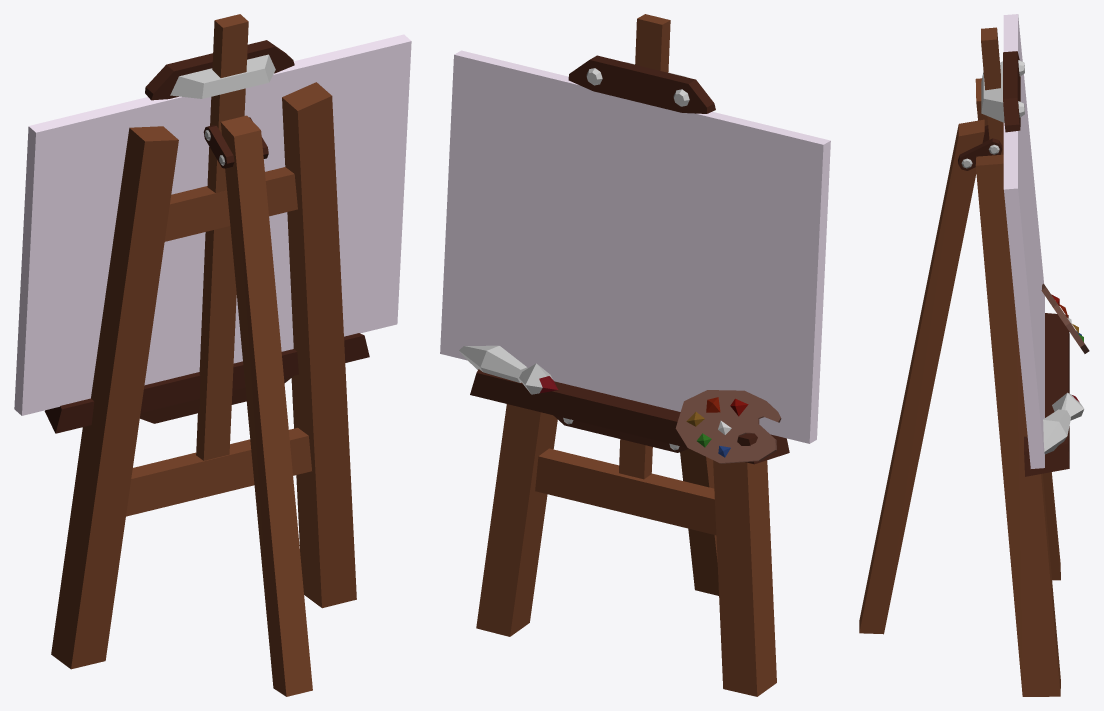
The model's file is defaulteasle.obj.
3 renders of one model, left to right at view 1: azimuth 30°, elevation 25°; view 2: azimuth 150°, elevation 25°; view 3: azimuth 270°, elevation 25°, orthographic. The views are drawn at different scales.
Visible parts, largest first — view 1: Canvas1, Legs1, Support1, Spine1, Beam2, Base2, Beam1, Bracket1, Base3, Hinge1; view 2: Canvas1, Legs1, Beam2, Base2, Board1, Base3, Spine1, Support1, Body1; view 3: Legs1, Support1, Canvas1, Base2, Spine1, Base3, Bracket1, Hinge1, Body1, Board1, Base1.
Part boxes in pixels (x1,y1,x2,y2): Canvas1: [14, 34, 411, 415]; Legs1: [51, 82, 356, 669]; Support1: [220, 115, 312, 696]; Spine1: [196, 14, 248, 460]; Beam2: [126, 427, 311, 516]; Base2: [44, 333, 369, 433]; Beam1: [164, 167, 297, 241]; Bracket1: [170, 54, 275, 98]; Base3: [145, 40, 294, 100]; Hinge1: [203, 117, 268, 168]; Canvas1: [440, 50, 830, 443]; Legs1: [476, 404, 776, 696]; Beam2: [535, 448, 716, 535]; Base2: [470, 369, 789, 464]; Board1: [675, 390, 781, 463]; Base3: [568, 55, 715, 113]; Spine1: [619, 14, 670, 479]; Support1: [680, 449, 718, 595]; Body1: [459, 345, 527, 382]; Legs1: [975, 78, 1060, 696]; Support1: [859, 119, 984, 634]; Canvas1: [1003, 14, 1044, 468]; Base2: [1024, 313, 1069, 476]; Spine1: [981, 27, 1003, 154]; Base3: [1003, 51, 1020, 132]; Bracket1: [981, 61, 1004, 122]; Hinge1: [958, 125, 1002, 170]; Body1: [1043, 409, 1070, 454]; Board1: [1041, 283, 1089, 353]; Base1: [1052, 392, 1084, 420].
Size of the model in its own units: 4.99 by 7.97 by 2.79.
